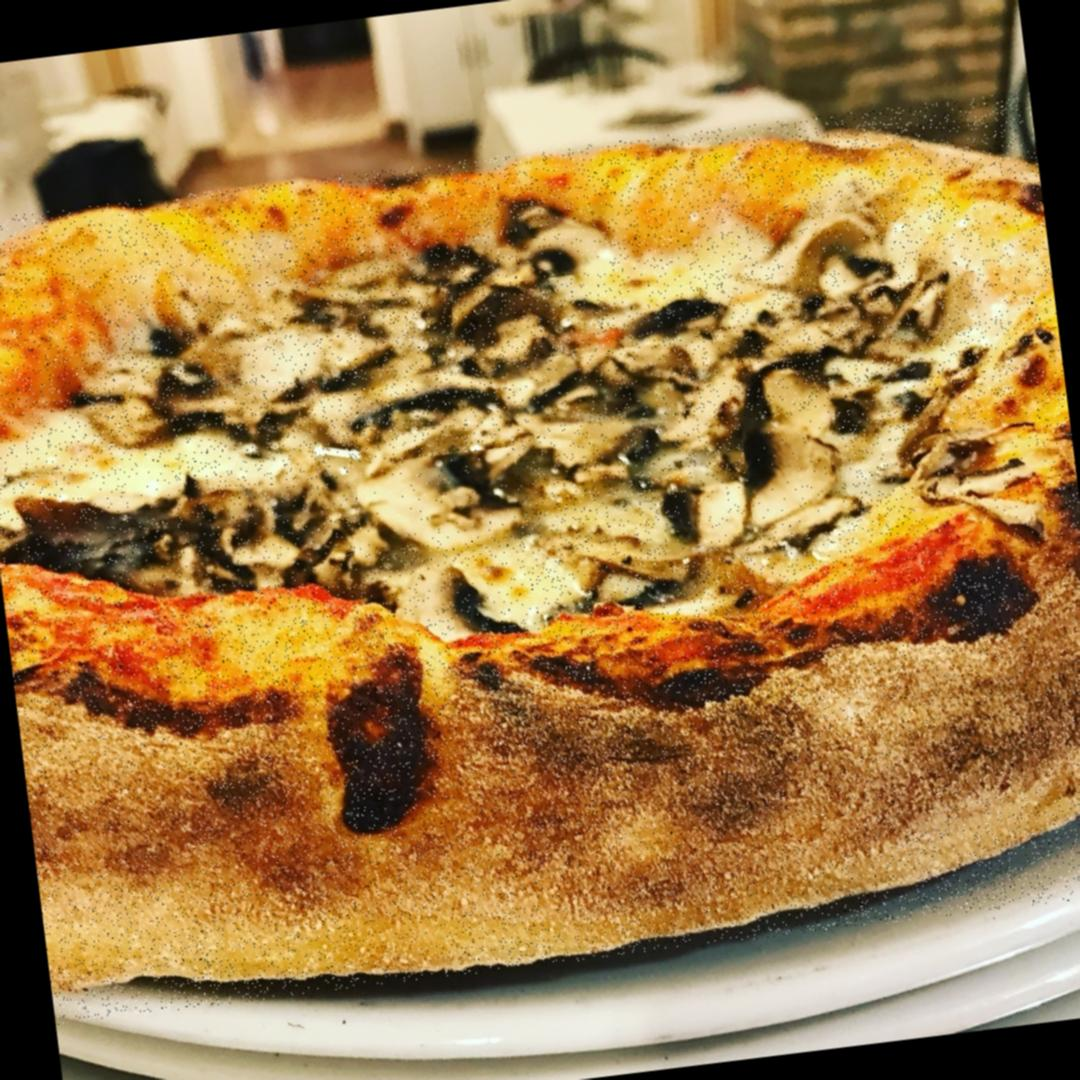Mushroom: (30, 464, 366, 616), (674, 280, 952, 426), (504, 342, 690, 484), (78, 364, 316, 461), (353, 447, 523, 552), (908, 416, 1044, 546), (450, 272, 600, 366), (741, 408, 846, 536), (390, 552, 528, 648), (778, 211, 882, 299), (656, 475, 755, 560), (515, 219, 612, 280)
Pizza: (0, 90, 1080, 1025)
